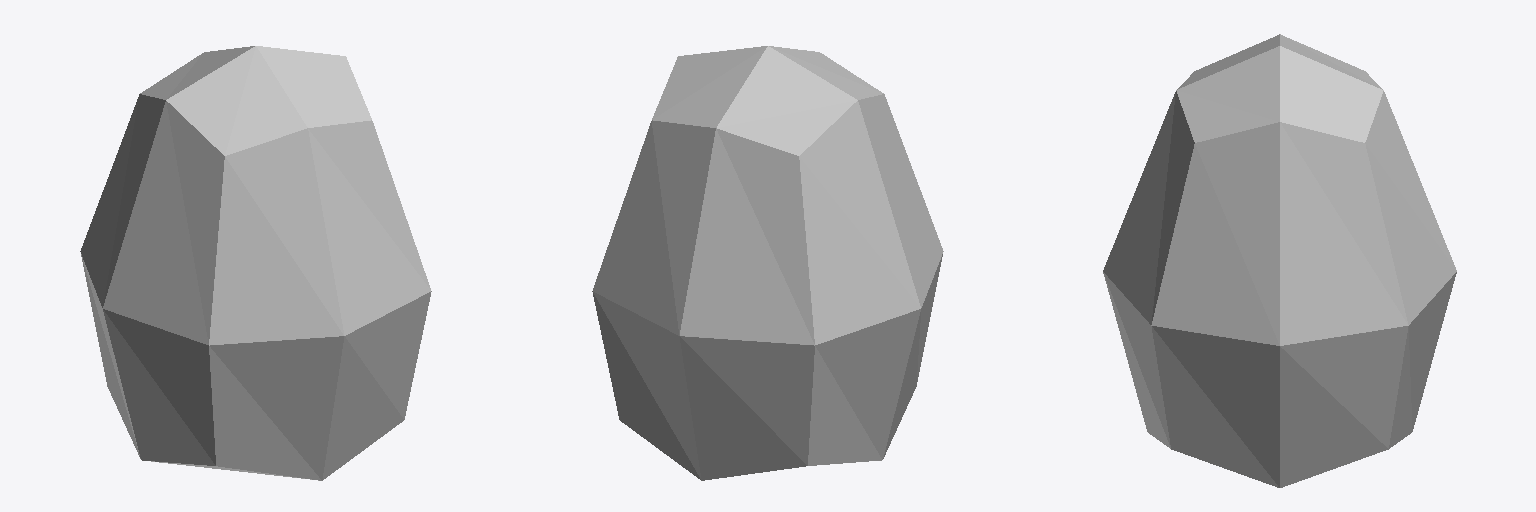
Rendered from egg.obj.
3 renders of one model, left to right at view 1: azimuth 30°, elevation 25°; view 2: azimuth 150°, elevation 25°; view 3: azimuth 270°, elevation 25°, orthographic.
Visible parts, largest first — view 1: Cube; view 2: Cube; view 3: Cube.
Boxes of the visible parts, x1=… form: Cube: x1=80, y1=46, x2=431, y2=480; Cube: x1=592, y1=46, x2=943, y2=480; Cube: x1=1103, y1=34, x2=1456, y2=487.
Bounding box in the file's own units: 1.63 × 2.13 × 1.63.